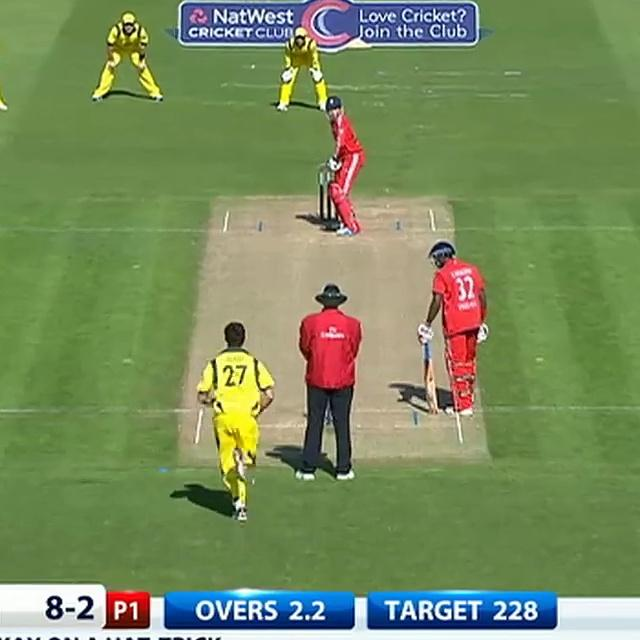umpire: (286, 276, 373, 482)
